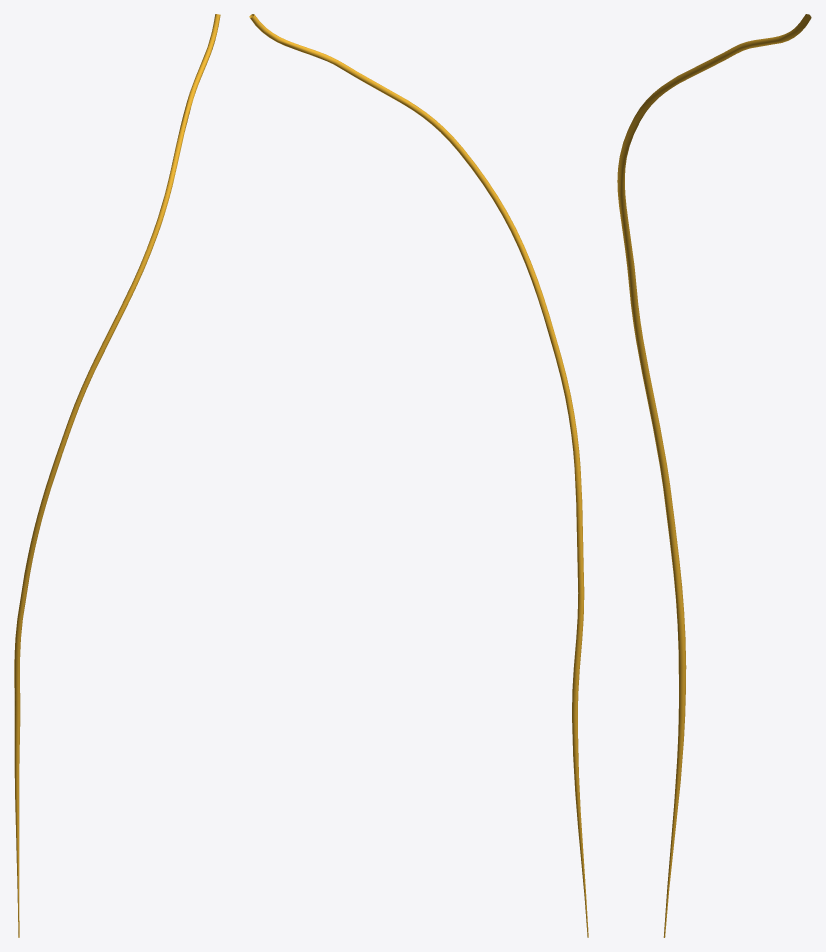
File: nervoso-lateral-antebrachial-cutaneous-nerve-r.glb
The picture shows the model from 3 angles, left to right: view 1: azimuth 30°, elevation 25°; view 2: azimuth 150°, elevation 25°; view 3: azimuth 270°, elevation 25°; orthographic projection. The views are drawn at different scales.
Visible parts, largest first — view 1: Lateral antebrachial cutaneous nerve.r; view 2: Lateral antebrachial cutaneous nerve.r; view 3: Lateral antebrachial cutaneous nerve.r.
Boxes of the visible parts, <box> form: Lateral antebrachial cutaneous nerve.r: <box>14,14,220,937</box>; Lateral antebrachial cutaneous nerve.r: <box>249,14,588,937</box>; Lateral antebrachial cutaneous nerve.r: <box>617,14,811,937</box>.
Size of the model in its own units: 0.0527 by 0.162 by 0.0262.
